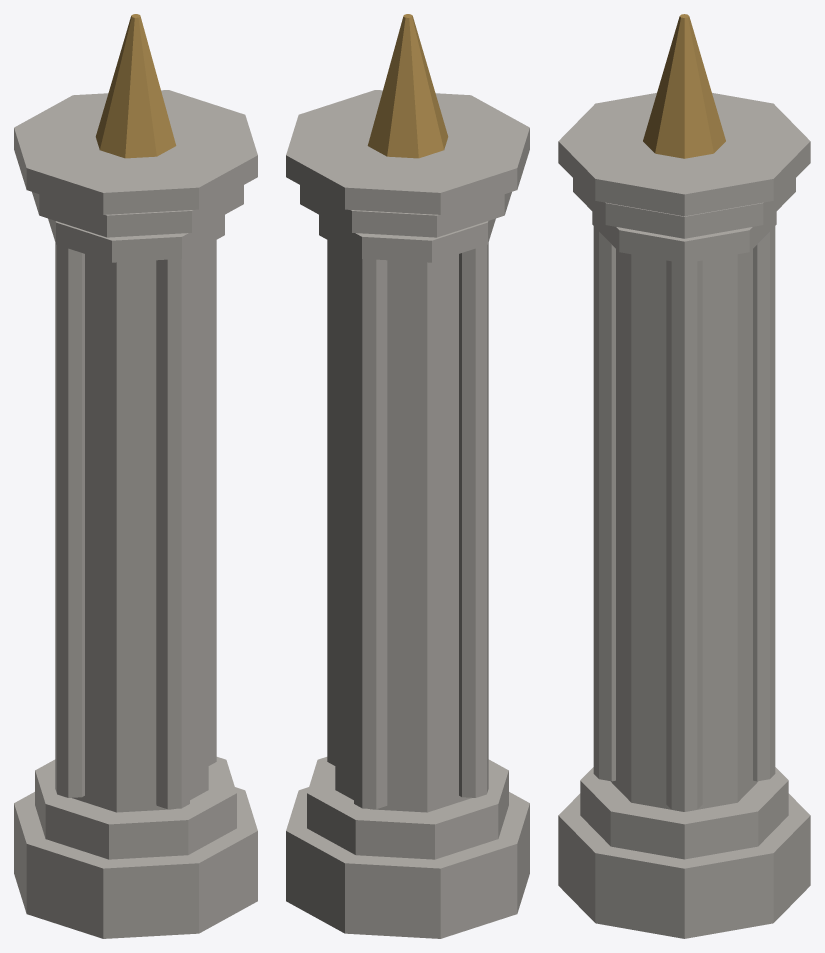
Rendered from d6_pier.glb.
The picture shows the model from 3 angles, left to right: view 1: azimuth 30°, elevation 25°; view 2: azimuth 150°, elevation 25°; view 3: azimuth 270°, elevation 25°; orthographic projection.
Parts seen in each view (by area): view 1: Body.020; view 2: Body.020; view 3: Body.020.
Boxes of the visible parts, bbox=[...] form: Body.020: bbox=[14, 14, 257, 938]; Body.020: bbox=[286, 14, 529, 938]; Body.020: bbox=[558, 14, 810, 938].
Size of the model in its own units: 1.04 by 3.96 by 1.04.
